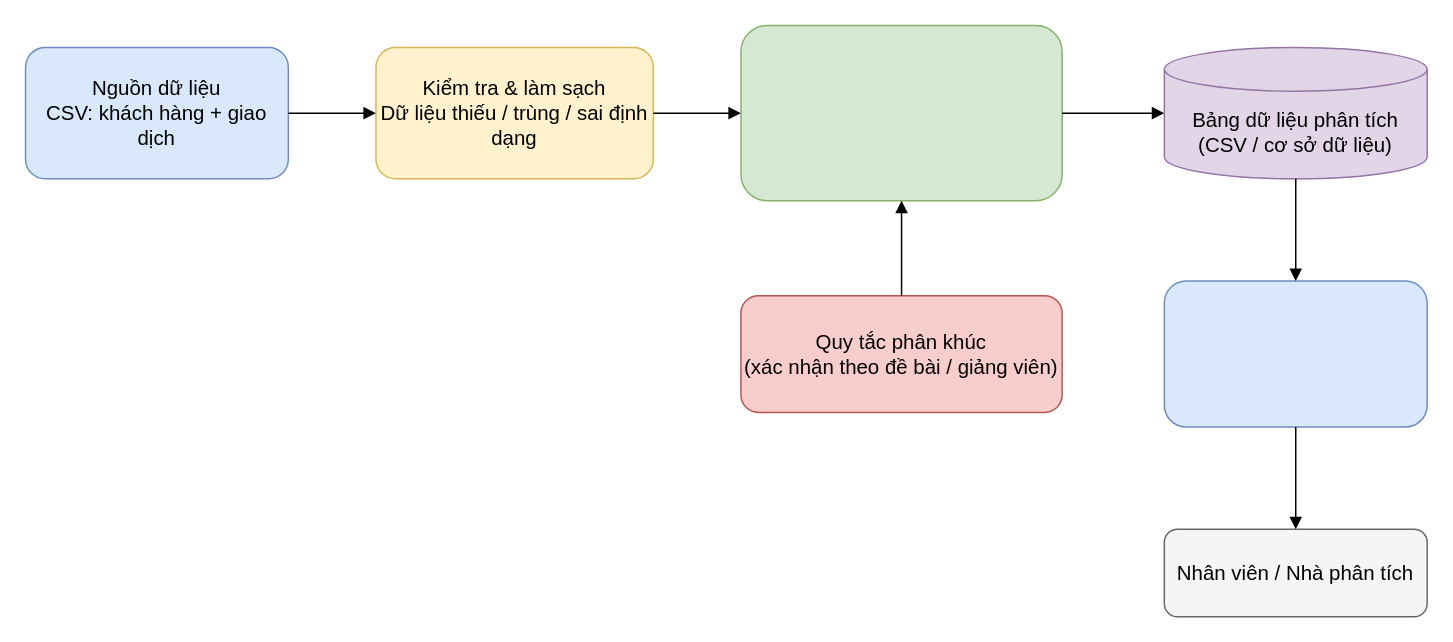
This 1453x642 diagram has some shape labels left out. The shapes that lost their labels are listed below. From the top down, each one's box as (x1, y1, x2, y2) in pixels, then its label:
(739, 24, 1062, 201): Xử lý dữ liệu Python + Pandas Tính tổng chi tiêu, số lần mua, lần mua gần nhất
(1163, 280, 1427, 427): Giao diện / Dashboard Danh sách hồ sơ khách hàng Lọc phân khúc & thống kê
